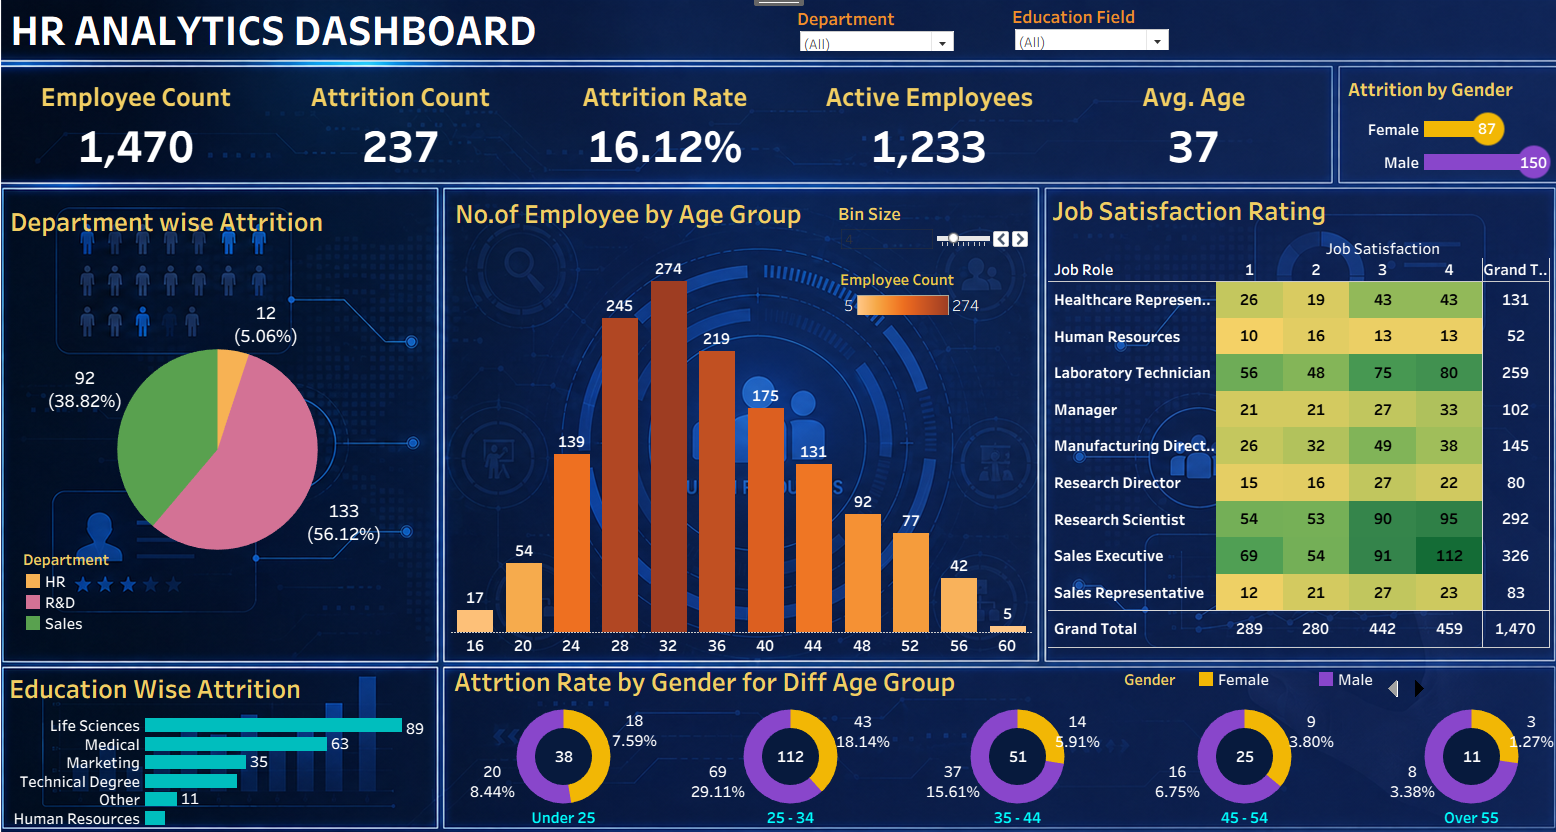

The dashboard page shown, as its layout file describes it:
{"tool":"tableau","page":{"name":"HR Analytics Dashboard","canvas":[1580,900],"ordinal":0},"visuals":[{"type":"image","param":"C:/Users/triko/OneDrive/Desktop/HR_Background (2).png","box":[8,8,1564,884]},{"type":"text","box":[18,15,764,54]},{"type":"filter","title":"Department wise Attrition","param":"[federated.14j0p2i15yudnm160qbps1ge42yr].[none:Education Field:nk]","box":[1023,17,160,46]},{"type":"filter","title":"Department wise Attrition","param":"[federated.14j0p2i15yudnm160qbps1ge42yr].[none:Department:nk]","box":[808,19,160,45]},{"type":"worksheet","title":"Attrition by Gender","mark":"Automatic","rows":["Gender"],"cols":["Calculation_1646548585500674","Calculation_1646548585500674"],"box":[1355,85,212,107]},{"type":"worksheet","title":"KIP","mark":"Automatic","box":[15,86,1322,103]},{"type":"worksheet","title":"Job Satisfaction Rating","mark":"Square","rows":["Job Role"],"cols":["Job Satisfaction"],"box":[1059,202,502,459]},{"type":"worksheet","title":"No.of Employee by Age Group","mark":"Automatic","rows":["Employee Count"],"cols":["Age (bin)"],"box":[462,205,581,465]},{"type":"worksheet","title":"Department wise Attrition","mark":"Pie","box":[17,213,423,450]},{"type":"parameter","param":"[Parameters].[Parameter 0204540813021184]","box":[849,214,193,53]},{"type":"legend","title":"No.of Employee by Age Group","param":"[federated.14j0p2i15yudnm160qbps1ge42yr].[sum:Employee Count:qk]","box":[851,282,144,46]},{"type":"legend","title":"Department wise Attrition","param":"[federated.14j0p2i15yudnm160qbps1ge42yr].[none:Department:nk]","box":[34,562,95,85]},{"type":"worksheet","title":"Education Wise Attrition","mark":"Automatic","rows":["Education Field"],"cols":["Calculation_1646548585500674"],"box":[16,680,437,160]},{"type":"legend","title":"Attrtion Rate by Gender for Diff Age Group","param":"[federated.14j0p2i15yudnm160qbps1ge42yr].[none:Gender:nk]","box":[1135,682,310,38]}]}

Visuals, with their boxes on the page's 1580x900 design canvas (x1, y1, x2, y2). These are canvas units, not pixel positions in the 1556x832 screenshot, which may show the page scaled, cropped or inside an application window:
image: <region>8, 8, 1572, 892</region>
text: <region>18, 15, 782, 69</region>
"Department wise Attrition" filter: <region>1023, 17, 1183, 63</region>
"Department wise Attrition" filter: <region>808, 19, 968, 64</region>
"Attrition by Gender" worksheet: <region>1355, 85, 1567, 192</region>
"KIP" worksheet: <region>15, 86, 1337, 189</region>
"Job Satisfaction Rating" worksheet (Square marks): <region>1059, 202, 1561, 661</region>
"No.of Employee by Age Group" worksheet: <region>462, 205, 1043, 670</region>
"Department wise Attrition" worksheet (Pie marks): <region>17, 213, 440, 663</region>
parameter: <region>849, 214, 1042, 267</region>
"No.of Employee by Age Group" legend: <region>851, 282, 995, 328</region>
"Department wise Attrition" legend: <region>34, 562, 129, 647</region>
"Education Wise Attrition" worksheet: <region>16, 680, 453, 840</region>
"Attrtion Rate by Gender for Diff Age Group" legend: <region>1135, 682, 1445, 720</region>
